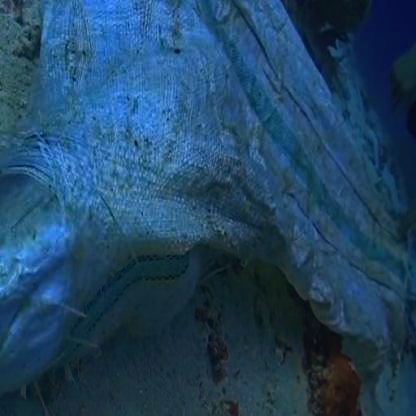plastic: (35, 27, 360, 315)
